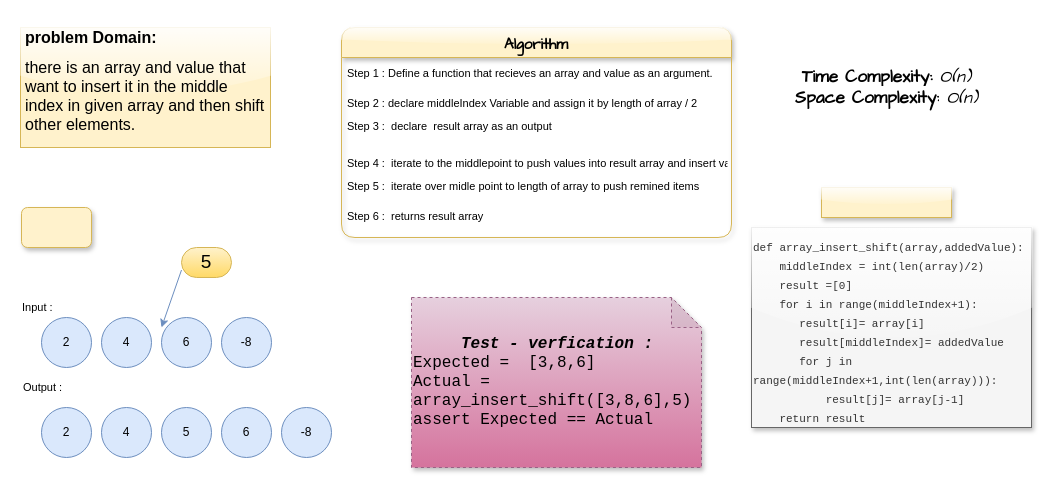
This 1055x492 diagram has some shape labels left out. The shapes that lost their labels are listed below. From the top down, each one's centre as x and y in pixels, then its label:
(887,203): code
(57,228): vision
